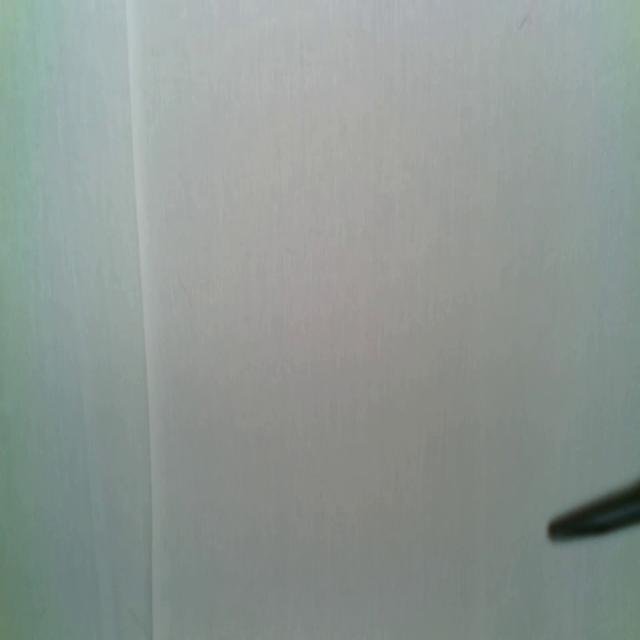crease: (125, 1, 155, 640)
